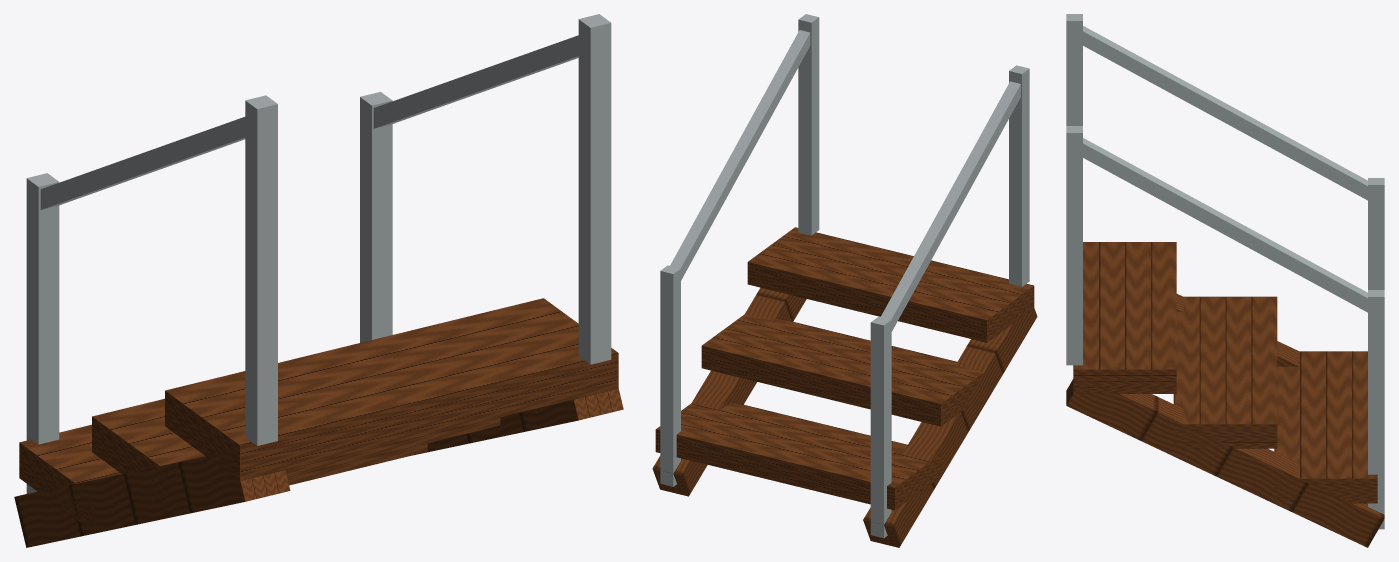
The model's file is fortified-compound-expansion-inspection-step-f821f60e__27108.glb.
The picture shows the model from 3 angles, left to right: view 1: azimuth 30°, elevation 25°; view 2: azimuth 150°, elevation 25°; view 3: azimuth 270°, elevation 25°; orthographic projection. The views are drawn at different scales.
Visible parts, largest first — view 1: inspection-step; view 2: inspection-step; view 3: inspection-step.
Boxes of the visible parts, x1,y1,x2,y2 form: inspection-step: (14, 14, 623, 547); inspection-step: (652, 14, 1037, 547); inspection-step: (1066, 14, 1384, 547).
Size of the model in its own units: 1 by 1.5 by 1.06.
Materials: 2 (1 with a texture image).
